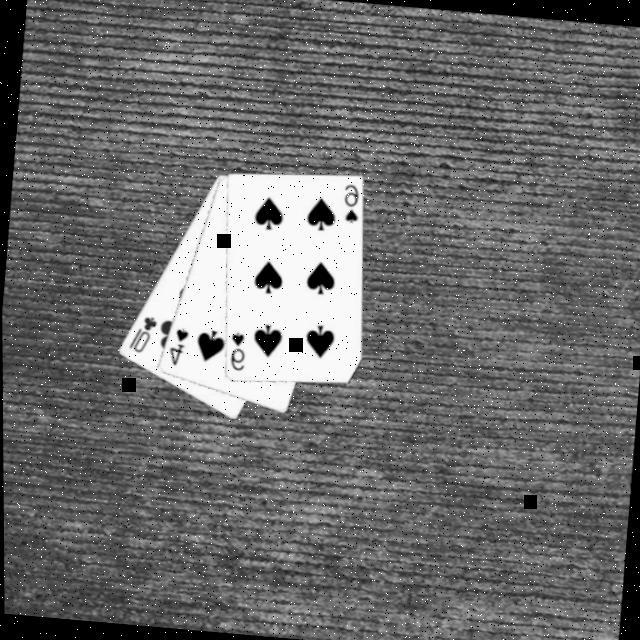10C: (125, 310, 162, 356)
4S: (165, 323, 192, 368)
6S: (339, 179, 364, 226), (226, 326, 250, 374)
